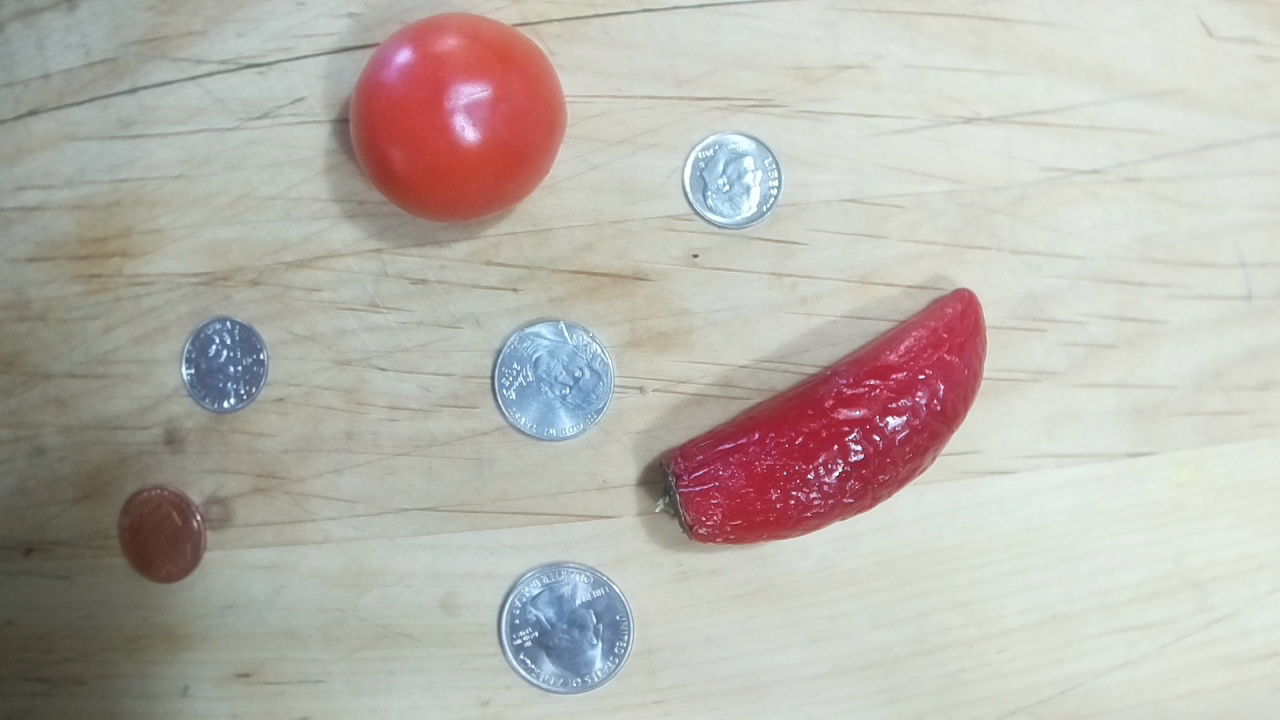dime: (681, 129, 785, 230), (179, 316, 270, 417)
nickel: (490, 317, 615, 443)
penny: (118, 482, 209, 586)
quarter: (497, 557, 635, 696)
